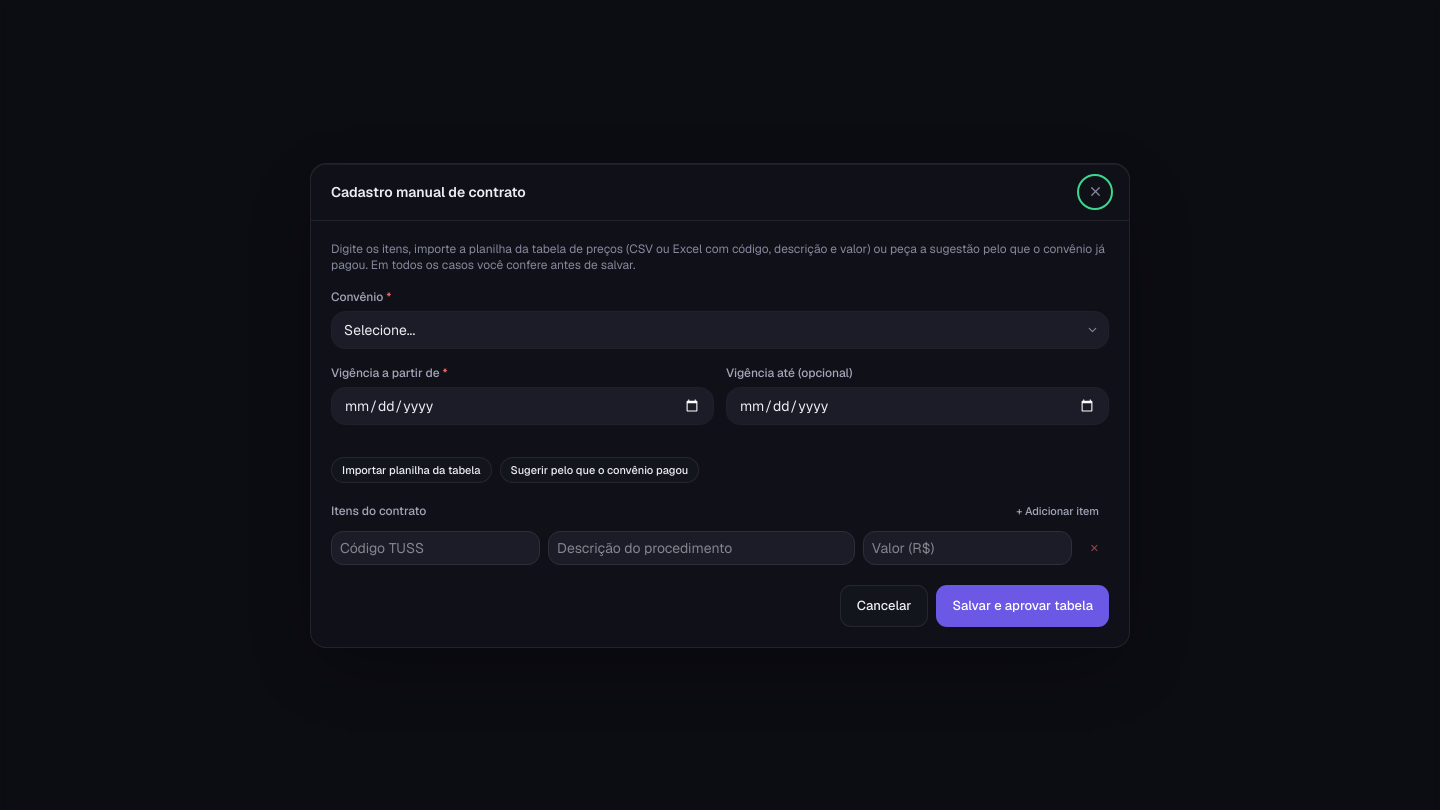
Test: ManualContractModal — homologação fácil › sugere a tabela pelo que o convênio pagou e preenche os itens
Click the button "Sugerir pelo que o convênio pagou". click: click(599, 470)
box: [500,457,699,483]
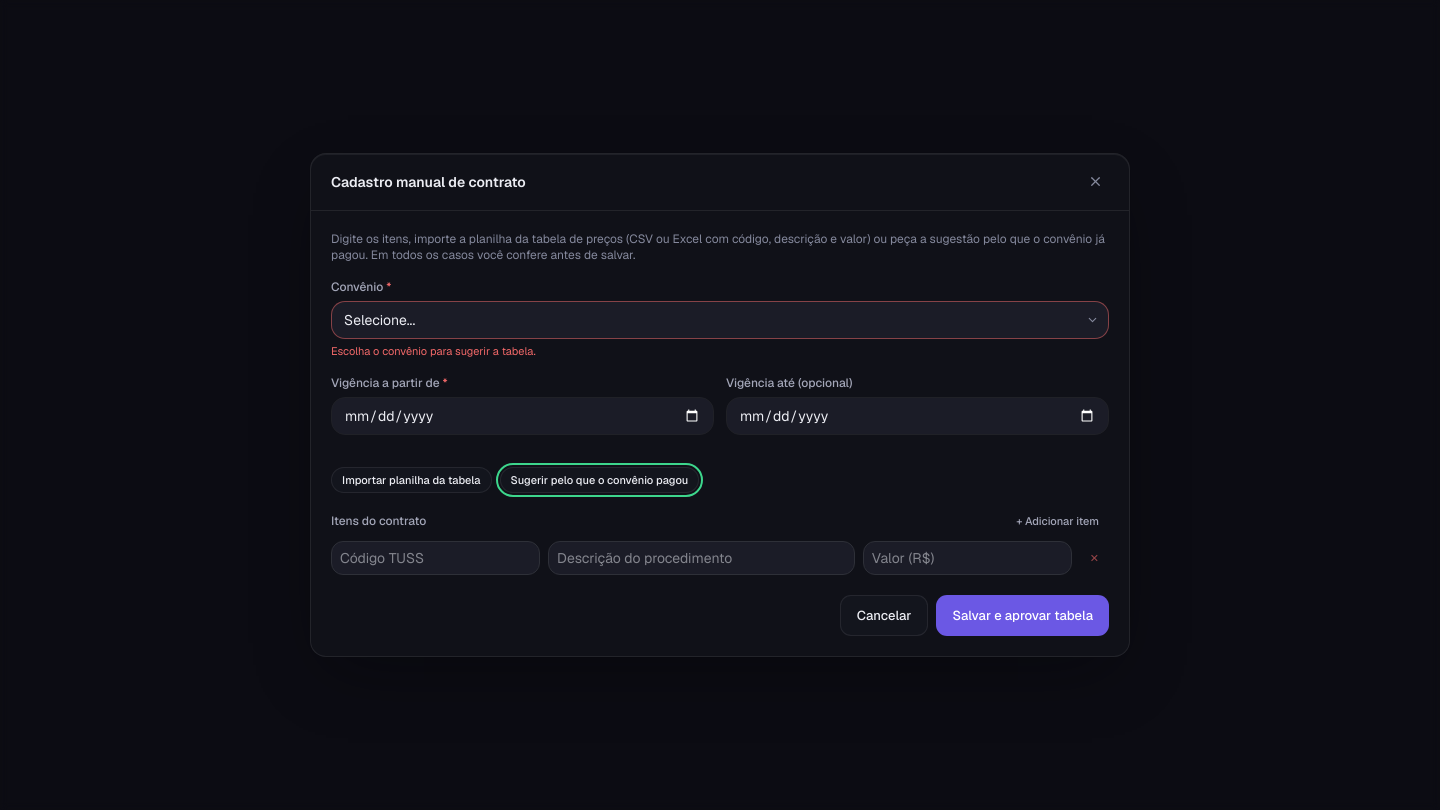
expect the text "Escolha o convênio para sugerir a tabela." is shown: met, box [331,344,536,358]
Select "Unimed Nacional" in the dropdown labelled "Convênio *". click: (720, 320)
box: [331,301,1109,339]
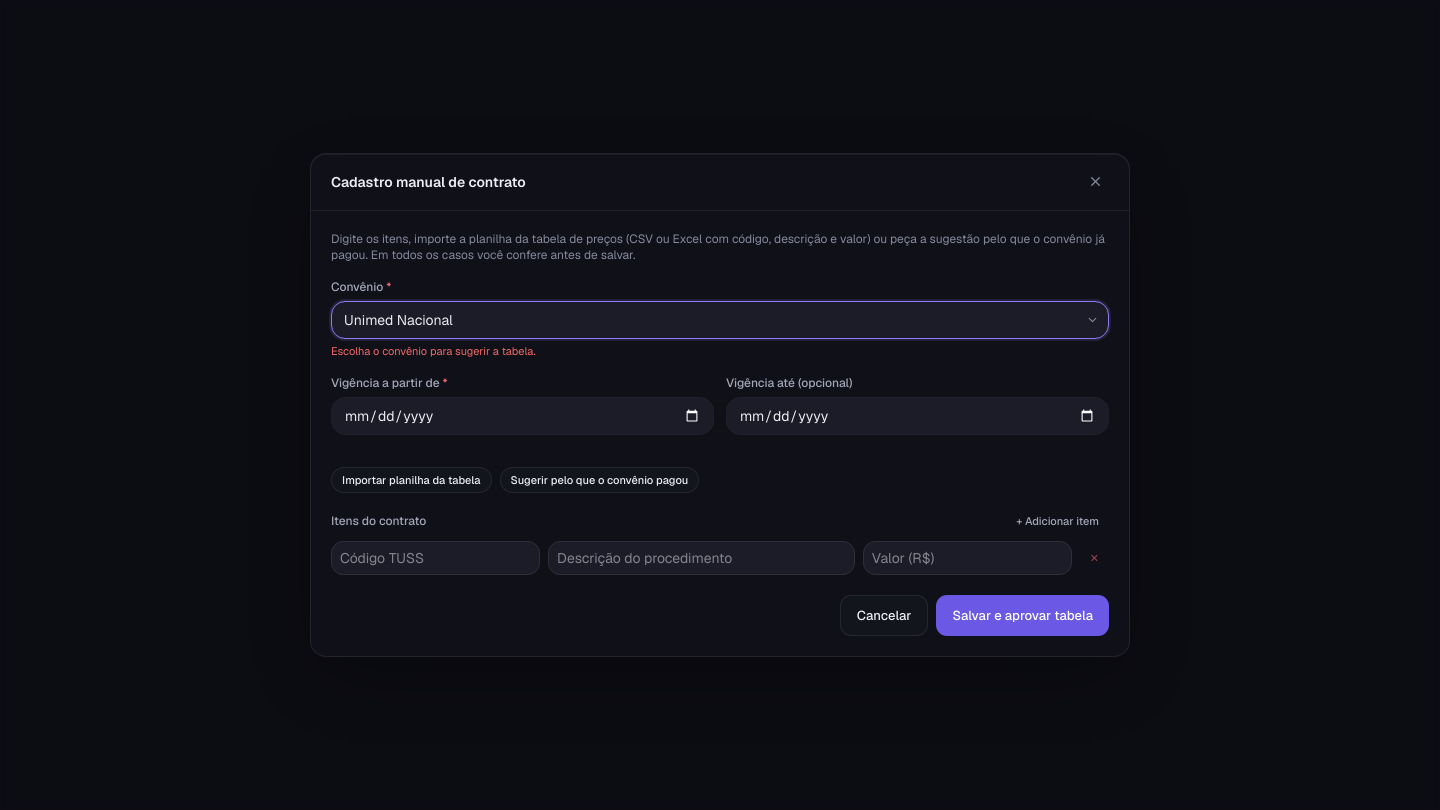
Click the button "Sugerir pelo que o convênio pagou". click: click(599, 480)
box: [500,467,699,493]
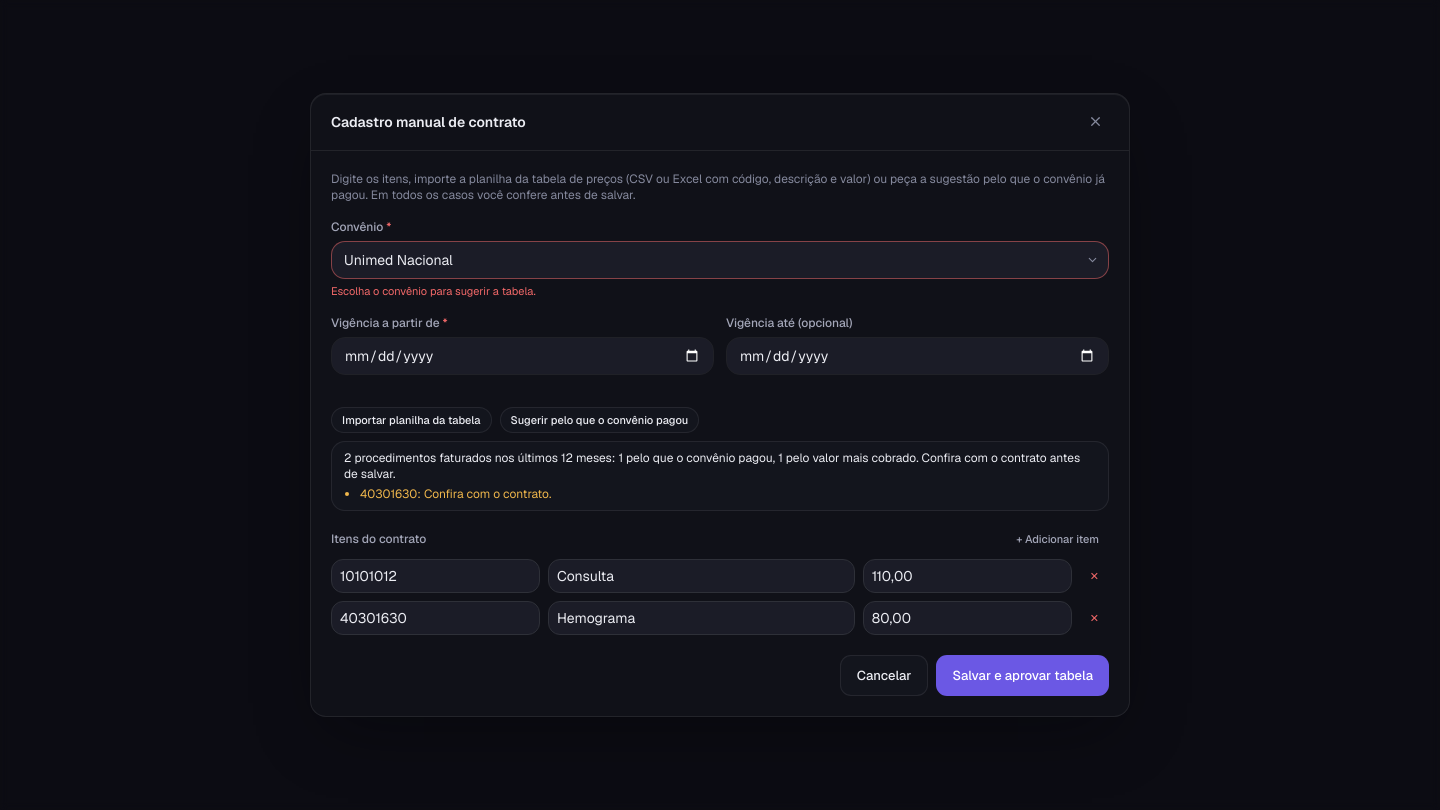
expect the 3rd field showing "40301630" is shown: met, box [331,601,540,635]
expect the 1st field showing "10101012" is shown: met, box [331,559,540,593]
expect the text "1 pelo que o convênio pagou, 1 pelo valor mais cobrado" is shown: met, box [344,450,1080,482]
